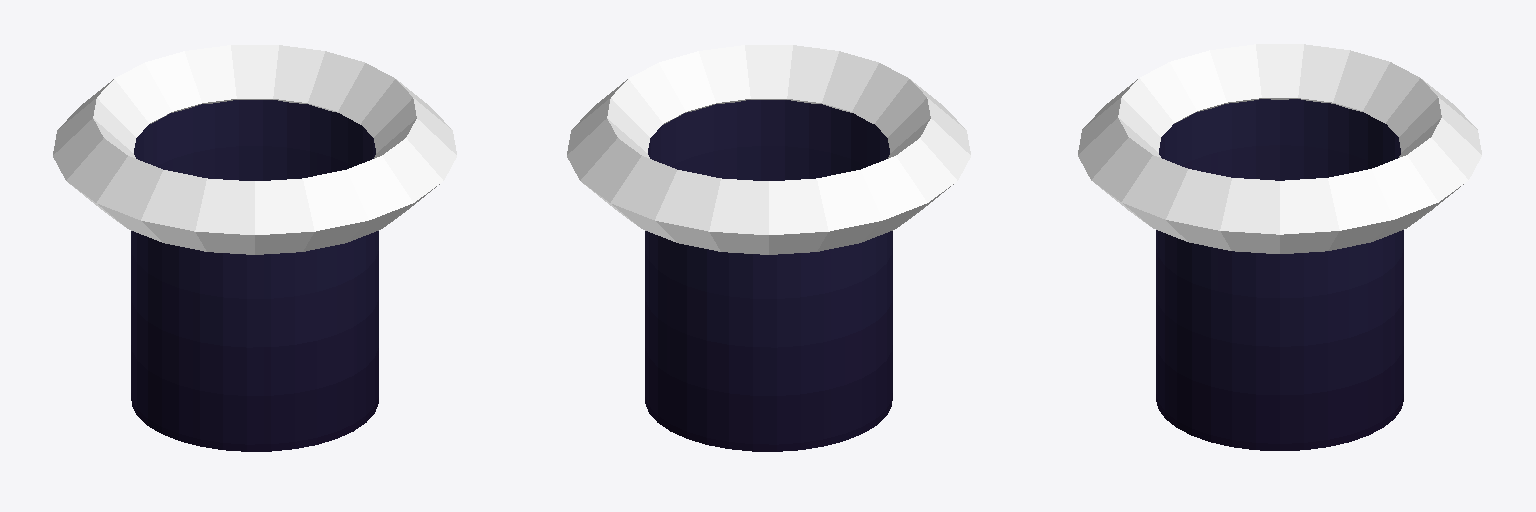
The picture shows the model from 3 angles: view 1: azimuth 30°, elevation 25°; view 2: azimuth 150°, elevation 25°; view 3: azimuth 270°, elevation 25°; orthographic projection.
Parts seen in each view (by area): view 1: Circle_Circle.001; view 2: Circle_Circle.001; view 3: Circle_Circle.001.
Part boxes in pixels (x1,y1,x2,y2): Circle_Circle.001: (53, 45, 456, 451); Circle_Circle.001: (567, 45, 970, 451); Circle_Circle.001: (1078, 44, 1481, 450).
Bounding box in the file's own units: 2.83 × 2.21 × 2.83.
Materials: 2 (2 with a texture image).